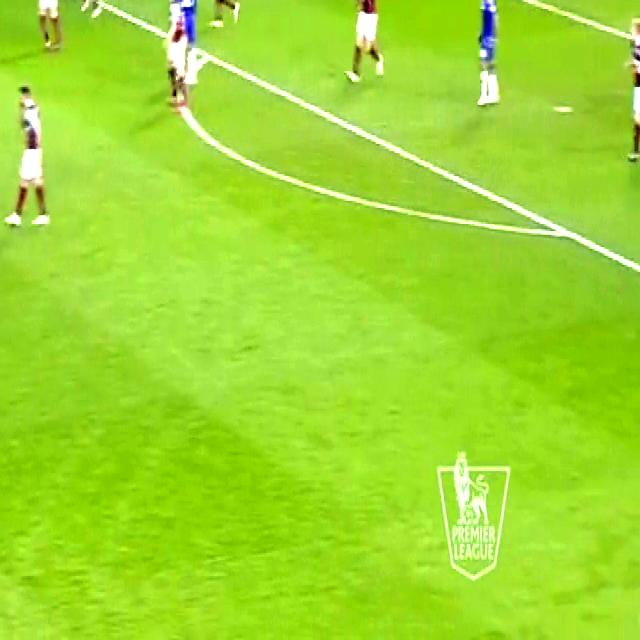soccer-player: (7, 75, 59, 241), (163, 0, 207, 121), (467, 0, 509, 121), (339, 0, 388, 92), (620, 0, 640, 171), (28, 0, 69, 52), (201, 0, 242, 34), (65, 0, 101, 21), (85, 0, 122, 4)
